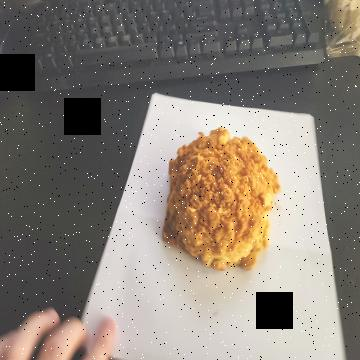soboru_bread: (164, 129, 282, 274)
